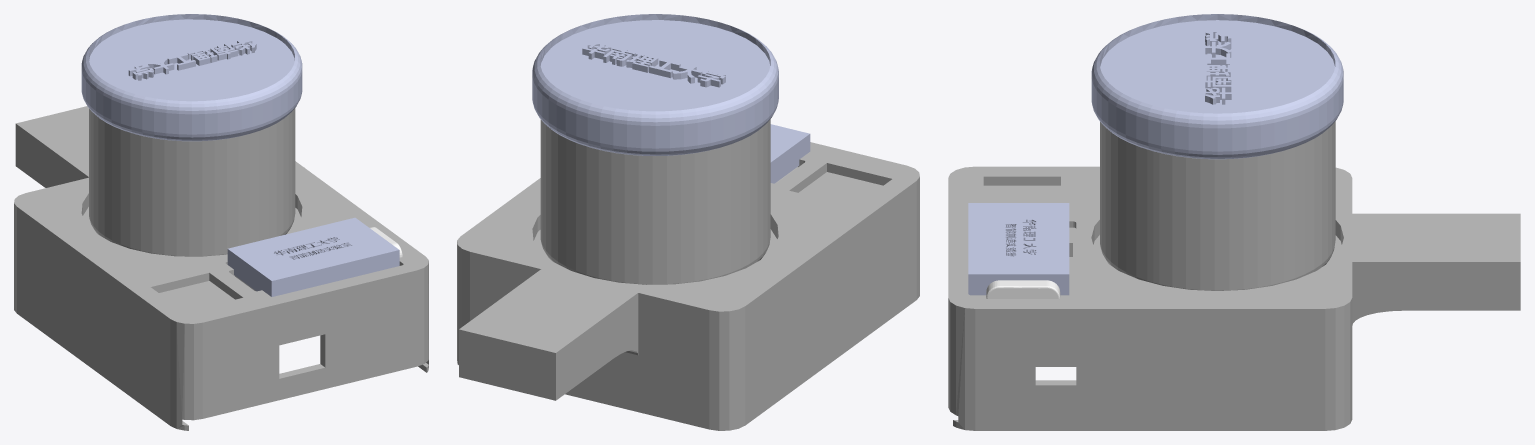
Rendered from product.dae.
3 renders of one model, left to right at view 1: azimuth 30°, elevation 25°; view 2: azimuth 150°, elevation 25°; view 3: azimuth 270°, elevation 25°, orthographic. The views are drawn at different scales.
Visible parts, largest first — view 1: all, box, lid, wood; view 2: all, box, lid, wood; view 3: all, box, lid, wood, USB.
Boxes of the visible parts, left/top/right/bottom form: all: left=14, top=106, right=428, bottom=430; box: left=89, top=108, right=295, bottom=256; lid: left=81, top=14, right=302, bottom=141; wood: left=227, top=217, right=399, bottom=296; all: left=457, top=142, right=919, bottom=430; box: left=540, top=119, right=770, bottom=284; lid: left=532, top=14, right=778, bottom=155; wood: left=770, top=124, right=810, bottom=183; all: left=948, top=166, right=1520, bottom=430; box: left=1100, top=121, right=1335, bottom=290; lid: left=1091, top=14, right=1343, bottom=159; wood: left=968, top=203, right=1069, bottom=295; USB: left=986, top=280, right=1060, bottom=298.
Bounding box in the file's own units: 0.1 × 0.17 × 0.097.
